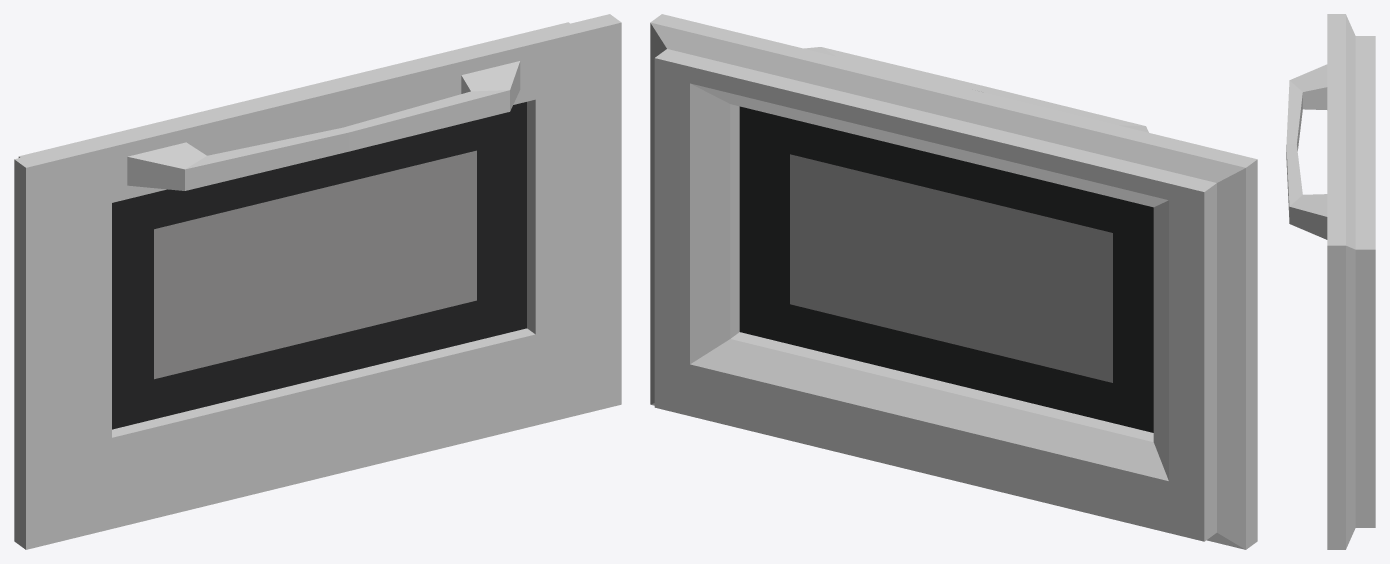
File: SM_Prop_Oven_Lid_01.obj
3 views of the same model, side by side, from view 1: azimuth 30°, elevation 25°; view 2: azimuth 150°, elevation 25°; view 3: azimuth 270°, elevation 25° (orthographic). The views are drawn at different scales.
Visible parts, largest first — view 1: SM_Prop_Oven_Lid_01_Mat_PolygonTown_01_A, SM_Prop_Oven_Lid_01_Mat_PolygonTown_Glass; view 2: SM_Prop_Oven_Lid_01_Mat_PolygonTown_01_A, SM_Prop_Oven_Lid_01_Mat_PolygonTown_Glass; view 3: SM_Prop_Oven_Lid_01_Mat_PolygonTown_01_A.
Boxes of the visible parts, left/top/right/bottom form: SM_Prop_Oven_Lid_01_Mat_PolygonTown_01_A: left=14, top=14, right=621, bottom=549; SM_Prop_Oven_Lid_01_Mat_PolygonTown_Glass: left=112, top=102, right=526, bottom=429; SM_Prop_Oven_Lid_01_Mat_PolygonTown_01_A: left=650, top=14, right=1257, bottom=549; SM_Prop_Oven_Lid_01_Mat_PolygonTown_Glass: left=739, top=106, right=1153, bottom=432; SM_Prop_Oven_Lid_01_Mat_PolygonTown_01_A: left=1286, top=14, right=1375, bottom=549.
Bounding box in the file's own units: 0.9818 × 0.6019 × 0.1596.
2 materials, 1 textured.
